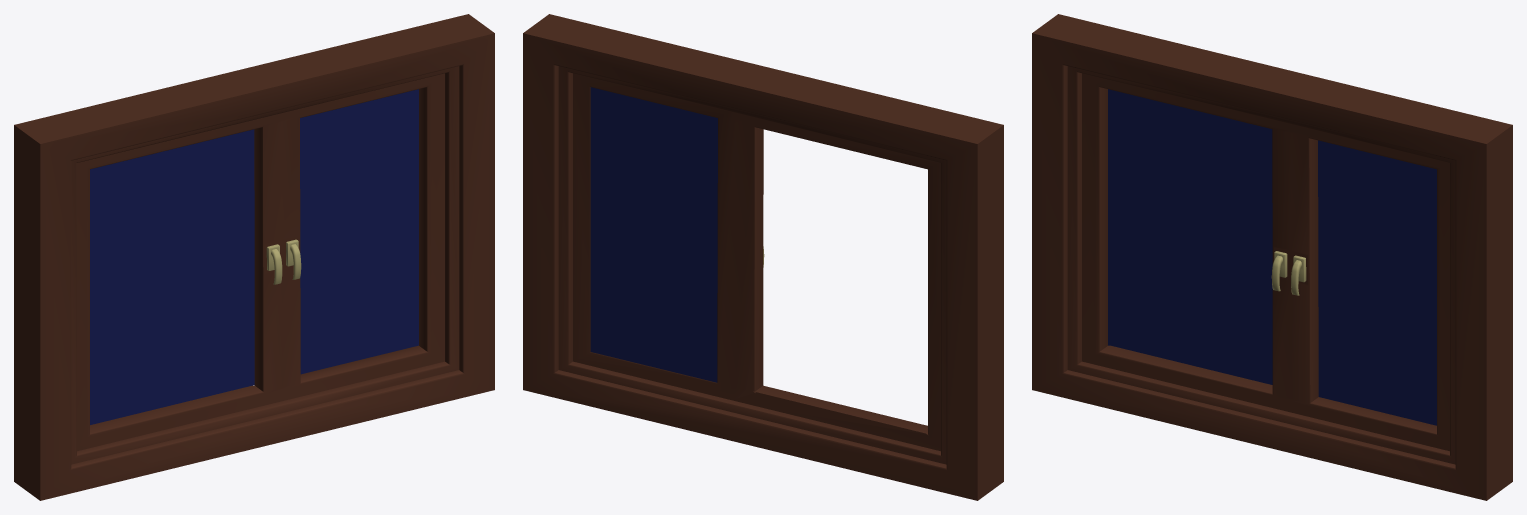
File: Bedroom_window_v2.fbx
3 renders of one model, left to right at view 1: azimuth 30°, elevation 25°; view 2: azimuth 150°, elevation 25°; view 3: azimuth 330°, elevation 25°, orthographic.
Parts seen in each view (by area): view 1: Bedroom_Window; view 2: Bedroom_Window; view 3: Bedroom_Window.
Boxes of the visible parts, bbox=[...] form: Bedroom_Window: bbox=[14, 14, 494, 500]; Bedroom_Window: bbox=[523, 14, 1003, 500]; Bedroom_Window: bbox=[1032, 14, 1512, 500].
Bounding box in the file's own units: 2 × 1.5 × 0.2.
